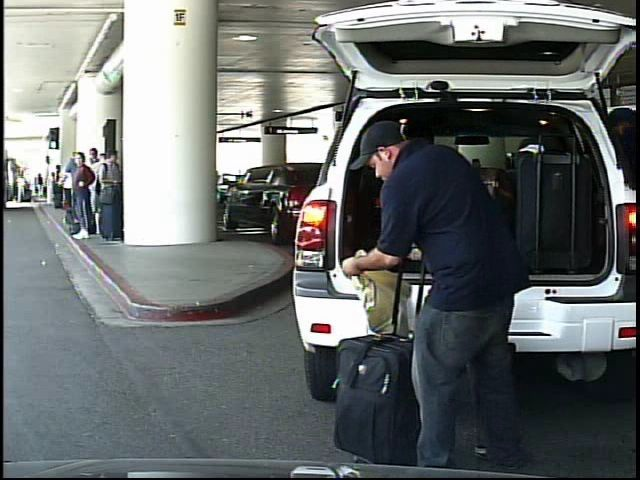person: (342, 110, 529, 471), (17, 174, 28, 205), (35, 172, 46, 200)
